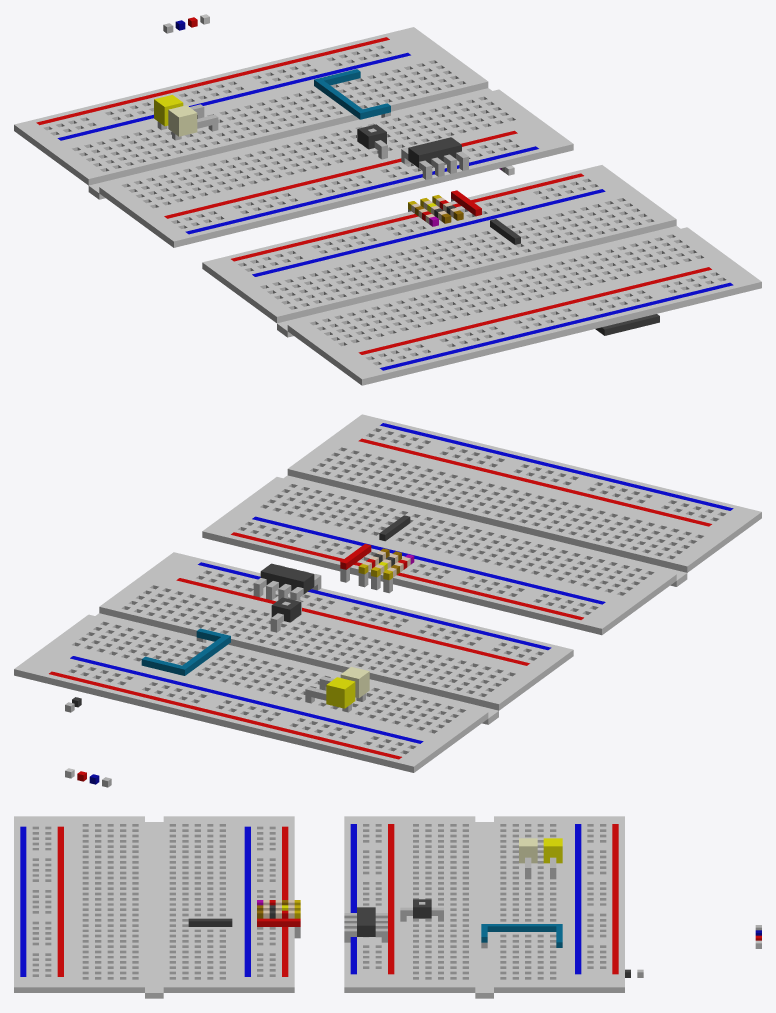
Rendered from tiny_voxel_555_with_half_size_breadboard.glb.
The picture shows the model from 3 angles, top to bottom: view 1: azimuth 30°, elevation 25°; view 2: azimuth 150°, elevation 25°; view 3: azimuth 270°, elevation 25°; orthographic projection. The views are drawn at different scales.
Parts seen in each view (by area): view 1: bb2, bb1, ic, ledon (×2), wire, cap; view 2: bb2, bb1, ledon (×2), ic, wire, cap; view 3: bb2, bb1, ic, ledon (×2), wire, cap, wire1, wire2, r1.
Part boxes in pixels (x1=…): bb2: x1=202, y1=165, x2=761, y2=385; bb1: x1=14, y1=27, x2=573, y2=247; ic: x1=401, y1=137, x2=468, y2=179; ledon (×2): x1=154, y1=95, x2=218, y2=140; wire: x1=314, y1=69, x2=390, y2=119; cap: x1=357, y1=124, x2=387, y2=159; bb2: x1=202, y1=414, x2=761, y2=635; bb1: x1=14, y1=552, x2=573, y2=772; ledon (×2): x1=305, y1=666, x2=369, y2=712; ic: x1=253, y1=563, x2=321, y2=600; wire: x1=141, y1=628, x2=230, y2=675; cap: x1=270, y1=597, x2=301, y2=632; bb2: x1=14, y1=816, x2=294, y2=998; bb1: x1=344, y1=816, x2=624, y2=998; ic: x1=344, y1=907, x2=387, y2=942; ledon (×2): x1=519, y1=838, x2=562, y2=879; wire: x1=481, y1=924, x2=562, y2=948; cap: x1=400, y1=899, x2=443, y2=921; wire1: x1=257, y1=918, x2=300, y2=938; wire2: x1=188, y1=918, x2=232, y2=926; r1: x1=257, y1=910, x2=300, y2=918.
Size of the model in its own units: 65 by 7 by 120.
